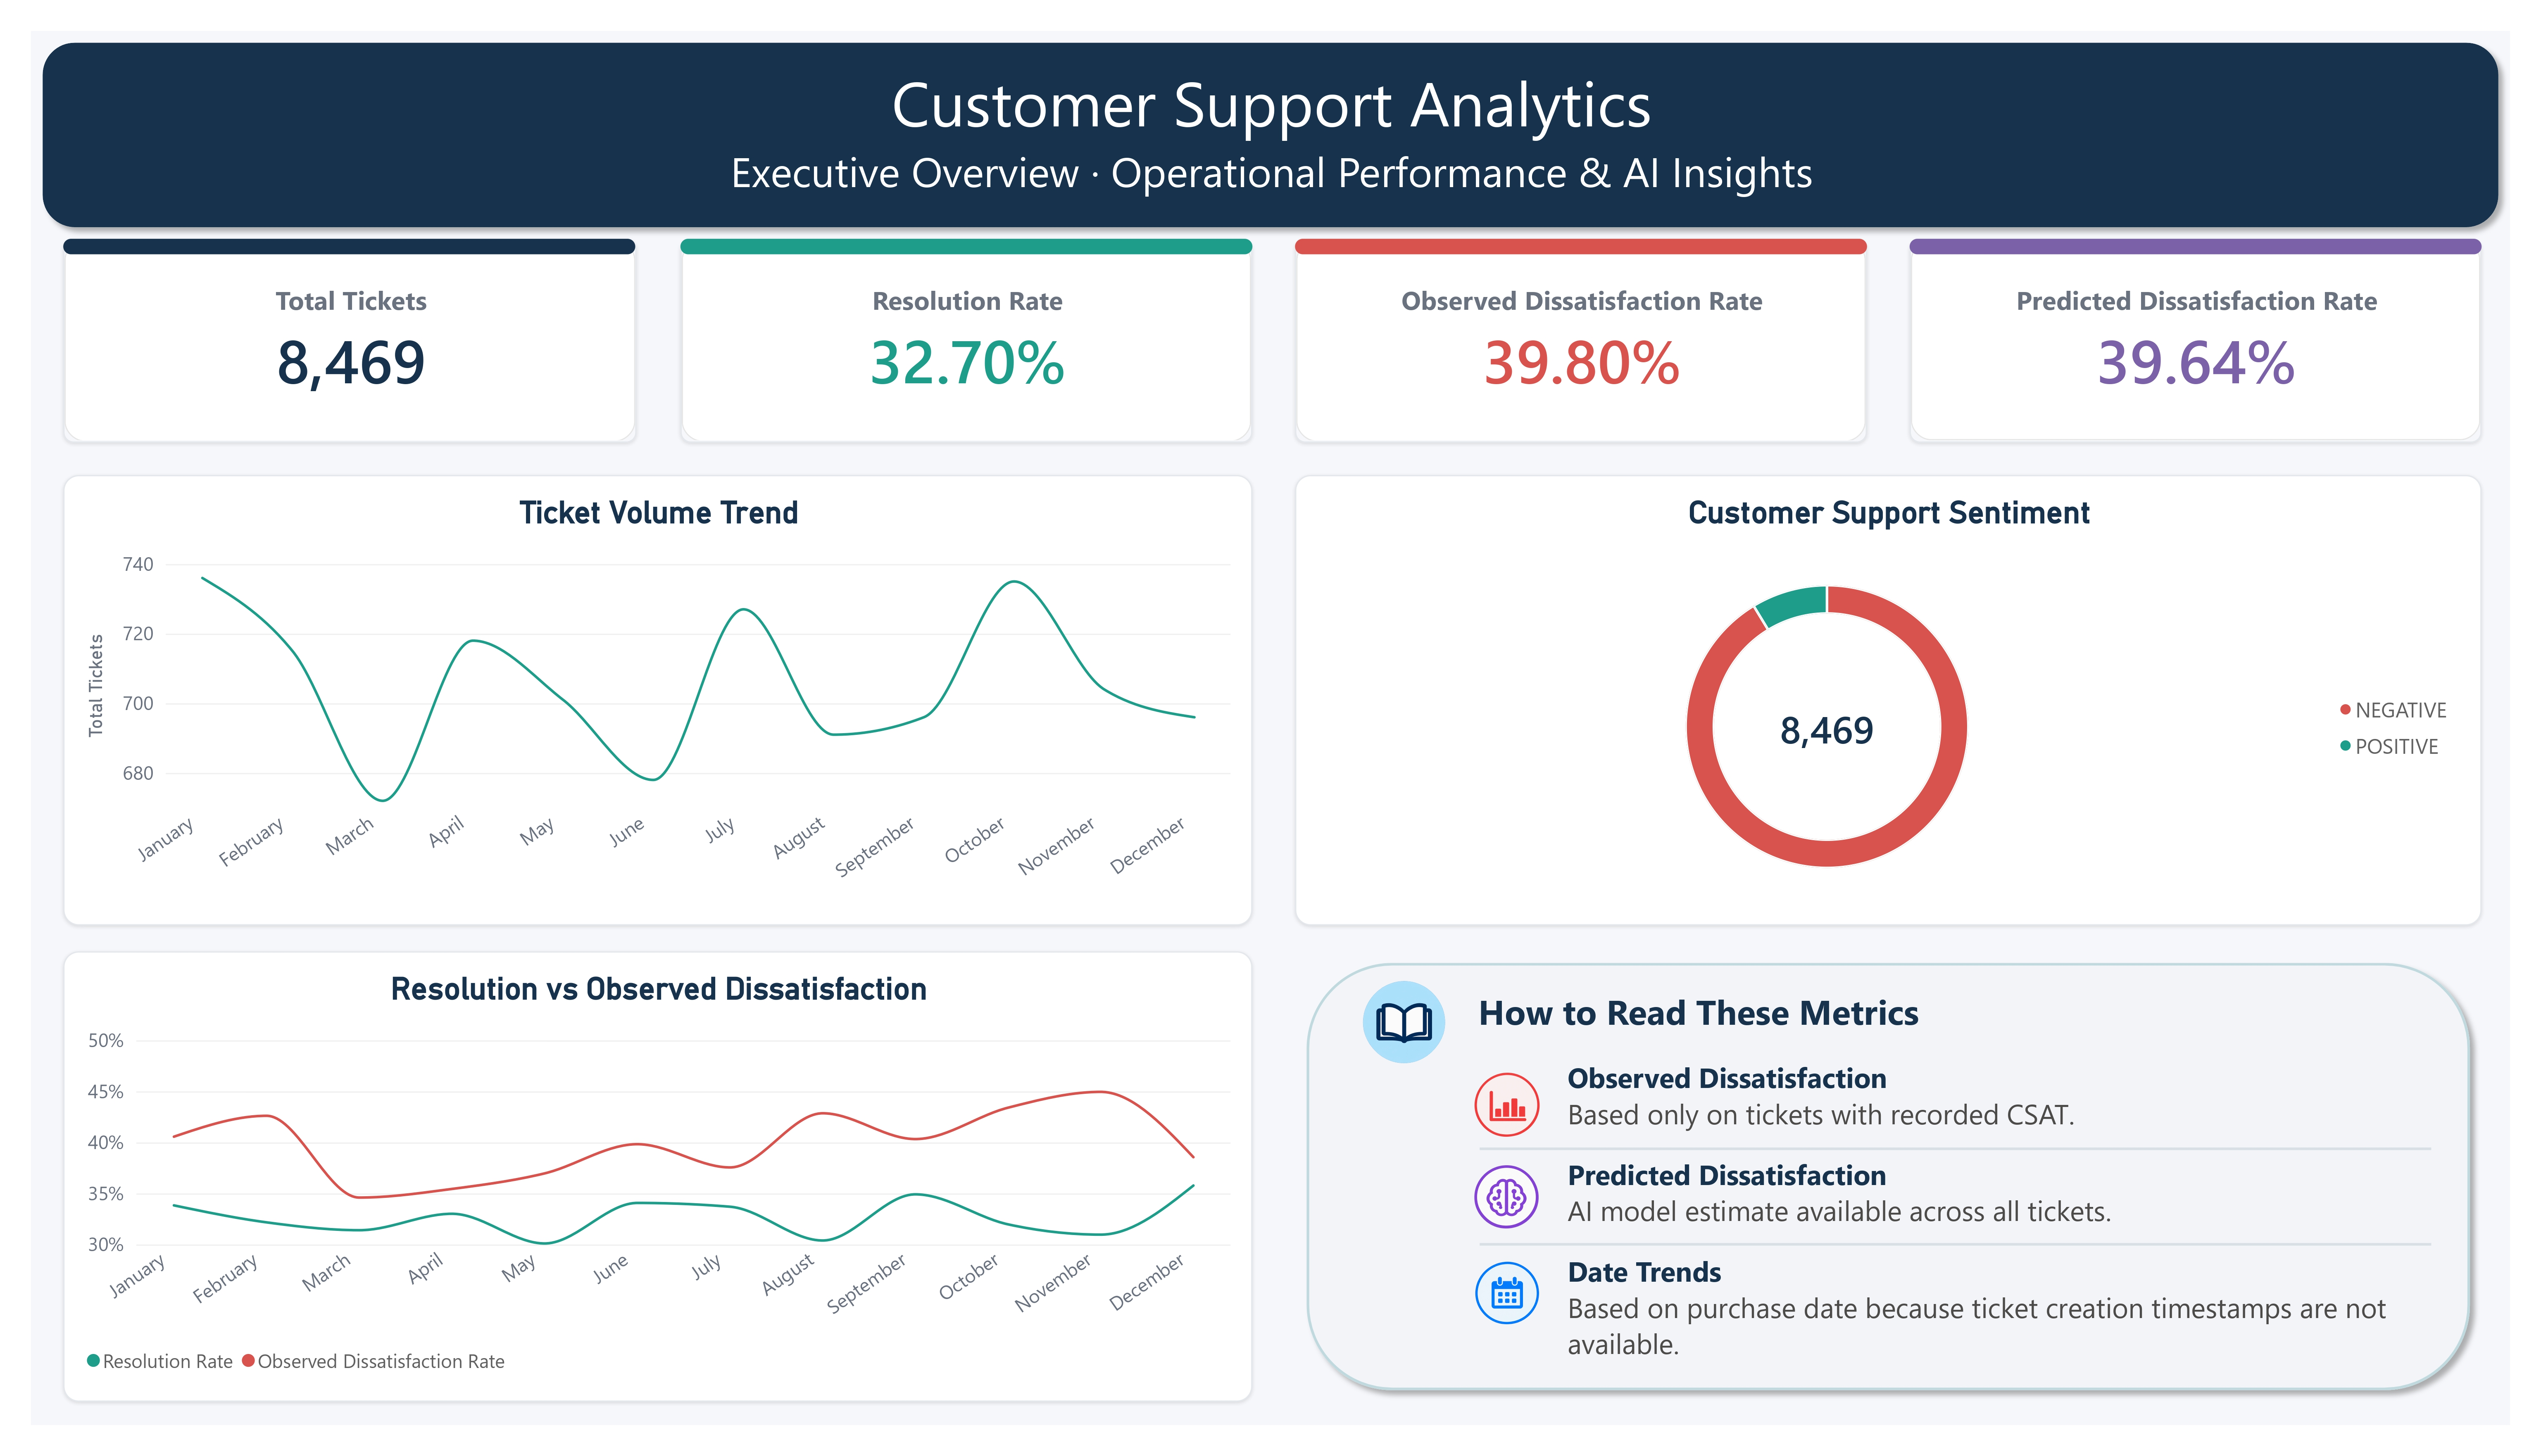

What the dashboard file says about the page in this screenshot:
{"tool":"powerbi","page":{"name":"Executive Overview","canvas":[1920,1080],"ordinal":0},"visuals":[{"type":"shape","box":[0,0,1920.4,160.5],"z":0},{"type":"textbox","box":[515.1,22.3,892.3,160.2],"z":1000},{"type":"cardVisual","fields":{"Data":["fact_ticket.Resolution Rate"]},"box":[503.1,161.1,443.4,157.4],"z":2000},{"type":"cardVisual","fields":{"Data":["fact_ticket.Total Tickets Display"]},"box":[25.3,161.1,443.4,157.4],"z":3000},{"type":"cardVisual","fields":{"Data":["fact_ticket.Observed Dissatisfaction Rate"]},"box":[979,161.1,443.4,157.4],"z":4000},{"type":"cardVisual","fields":{"Data":["fact_ticket.Predicted Dissatisfaction Rate"]},"box":[1455,161.1,443.4,157.4],"z":5000},{"type":"lineChart","title":"Ticket Volume Trend","fields":{"Category":["dim_date.month_name"],"Y":["fact_ticket.Total Tickets"]},"box":[25.3,343.8,921.1,349.3],"z":6000},{"type":"donutChart","title":"Customer Support Sentiment","fields":{"Y":["fact_ticket.Total Tickets"],"Category":["fact_ticket.sentiment_label"]},"box":[979,343.8,919.3,349.3],"z":7000},{"type":"lineChart","title":"Resolution vs Observed Dissatisfaction","fields":{"Category":["dim_date.month_name"],"Y":["fact_ticket.Resolution Rate","fact_ticket.Observed Dissatisfaction Rate"]},"box":[25.3,713,921.1,349.3],"z":8000},{"type":"shape","box":[979,713,919.3,349.3],"z":9000},{"type":"textbox","box":[1121.4,741.4,754.6,54.3],"z":10000},{"type":"textbox","box":[1190,795.7,658.6,240],"z":11000},{"type":"shape","box":[1122,843.3,736.5,45.2],"z":12000},{"type":"shape","box":[1122,917.5,736.5,45.2],"z":13000},{"type":"image","box":[1005.7,731.4,115.7,72.9],"z":14000},{"type":"image","box":[1097.1,804.3,92.2,54.5],"z":15000},{"type":"image","box":[1097.1,875.7,92.2,54.5],"z":16000},{"type":"image","box":[1097.1,950,92.2,54.5],"z":17000},{"type":"shape","box":[25.4,160.8,443.1,12.3],"z":18000},{"type":"shape","box":[503.1,160.8,443.1,12.3],"z":19000},{"type":"shape","box":[979.2,160.8,443.1,12.3],"z":20000},{"type":"shape","box":[1455.4,160.8,443.1,12.3],"z":21000}]}

Visuals, with their boxes on the page's 1920x1080 design canvas (x1, y1, x2, y2). These are canvas units, not pixel positions in the 2541x1456 screenshot, which may show the page scaled, cropped or inside an application window:
shape: (0,0,1920,160)
textbox: (515,22,1407,182)
cardVisual - fact_ticket.Resolution Rate: (503,161,946,318)
cardVisual - fact_ticket.Total Tickets Display: (25,161,469,318)
cardVisual - fact_ticket.Observed Dissatisfaction Rate: (979,161,1422,318)
cardVisual - fact_ticket.Predicted Dissatisfaction Rate: (1455,161,1898,318)
"Ticket Volume Trend" lineChart: (25,344,946,693)
"Customer Support Sentiment" donutChart: (979,344,1898,693)
"Resolution vs Observed Dissatisfaction" lineChart: (25,713,946,1062)
shape: (979,713,1898,1062)
textbox: (1121,741,1876,796)
textbox: (1190,796,1849,1036)
shape: (1122,843,1858,888)
shape: (1122,918,1858,963)
image: (1006,731,1121,804)
image: (1097,804,1189,859)
image: (1097,876,1189,930)
image: (1097,950,1189,1004)
shape: (25,161,468,173)
shape: (503,161,946,173)
shape: (979,161,1422,173)
shape: (1455,161,1898,173)
